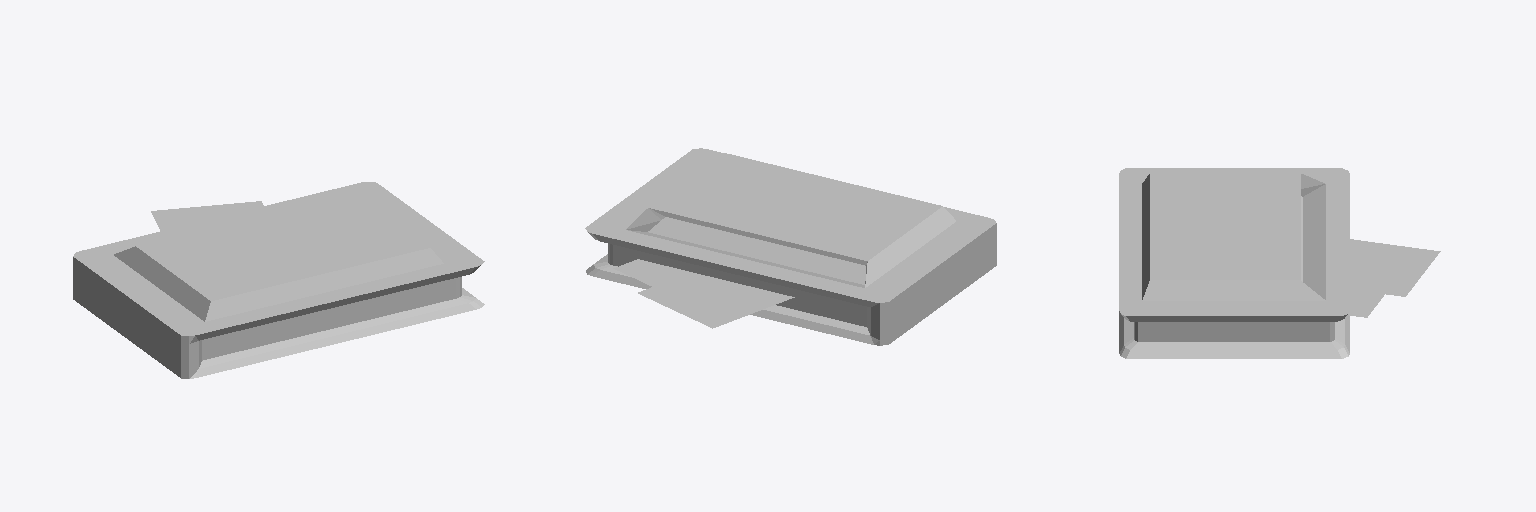
The model's file is MSH_Cartera.obj.
3 renders of one model, left to right at view 1: azimuth 30°, elevation 25°; view 2: azimuth 150°, elevation 25°; view 3: azimuth 270°, elevation 25°, orthographic.
Parts seen in each view (by area): view 1: MSH_Cartera; view 2: MSH_Cartera; view 3: MSH_Cartera.
Boxes of the visible parts, <box> form: MSH_Cartera: <box>73,182,484,378</box>; MSH_Cartera: <box>585,148,996,345</box>; MSH_Cartera: <box>1119,168,1440,358</box>.
Size of the model in its own units: 5.09 by 0.9325 by 4.67.